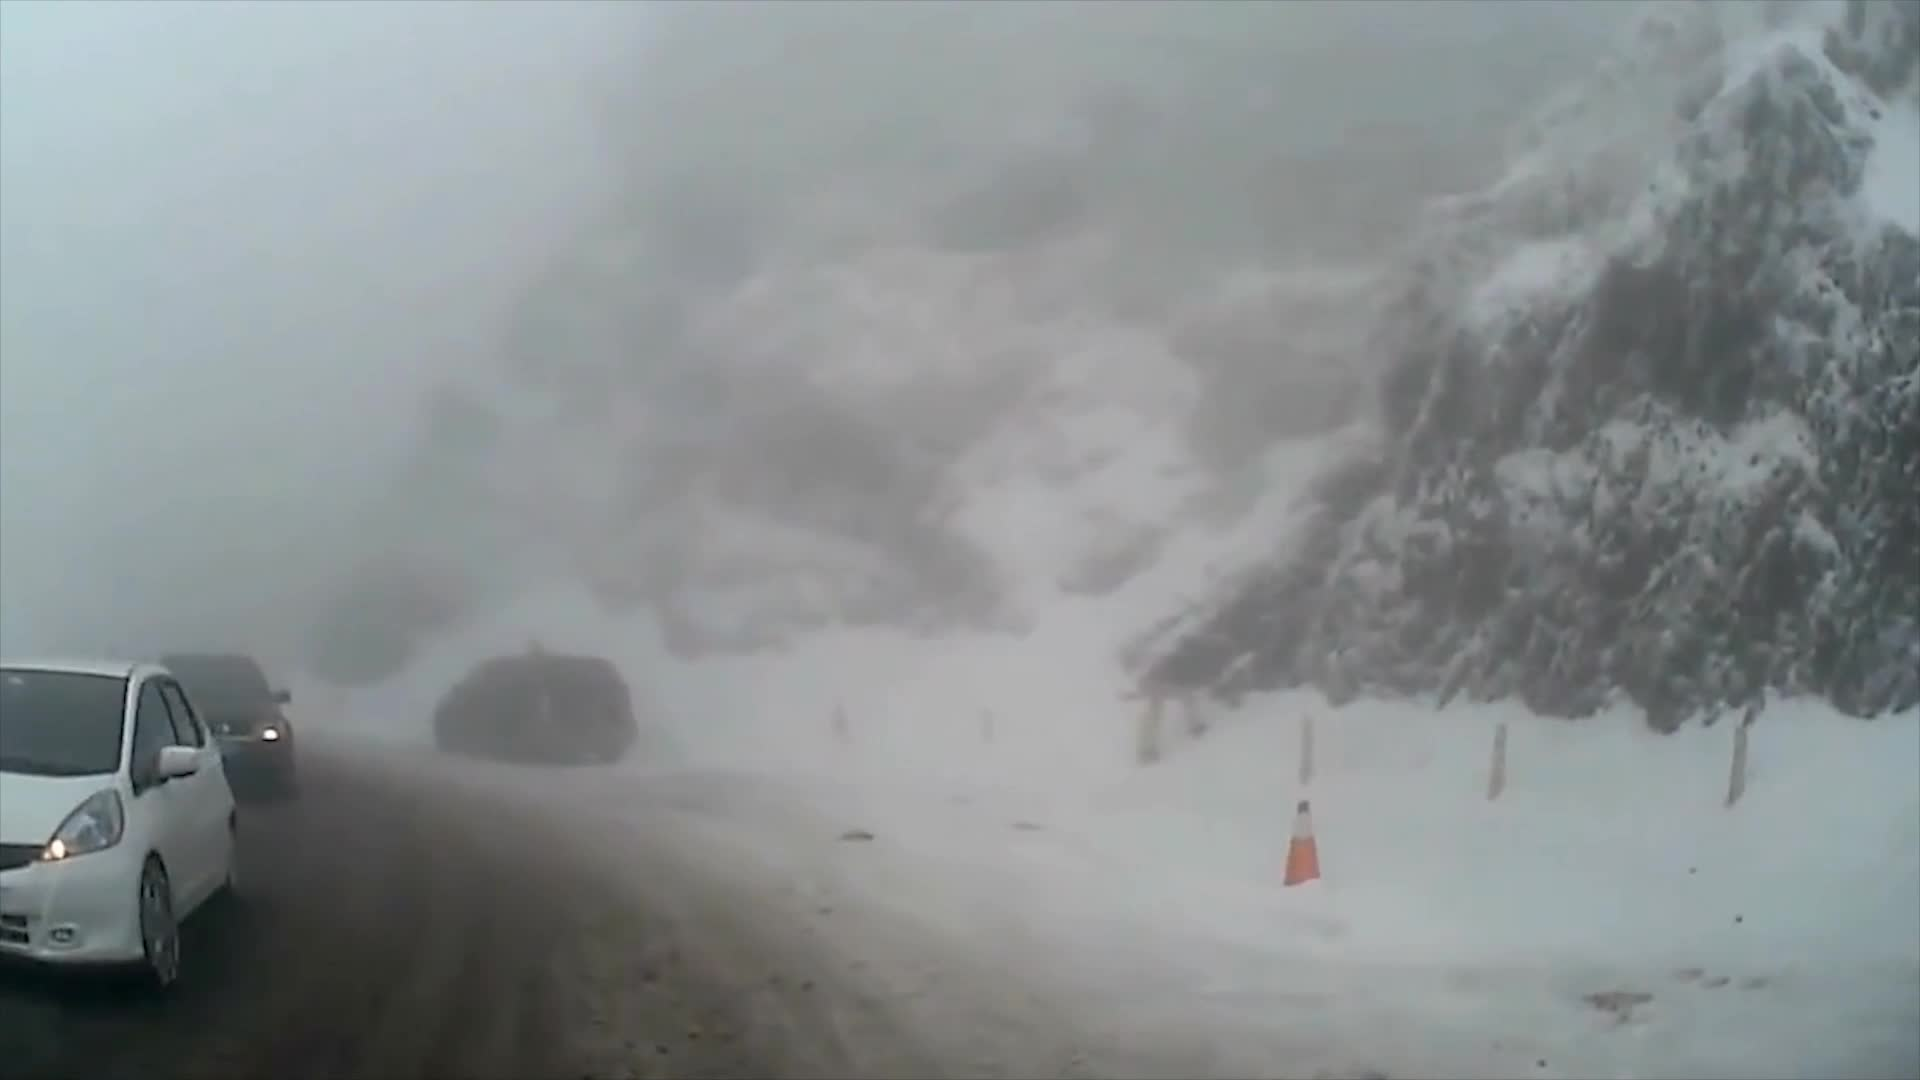vehicle: (0, 653, 249, 992), (124, 646, 297, 806), (433, 651, 636, 765)
